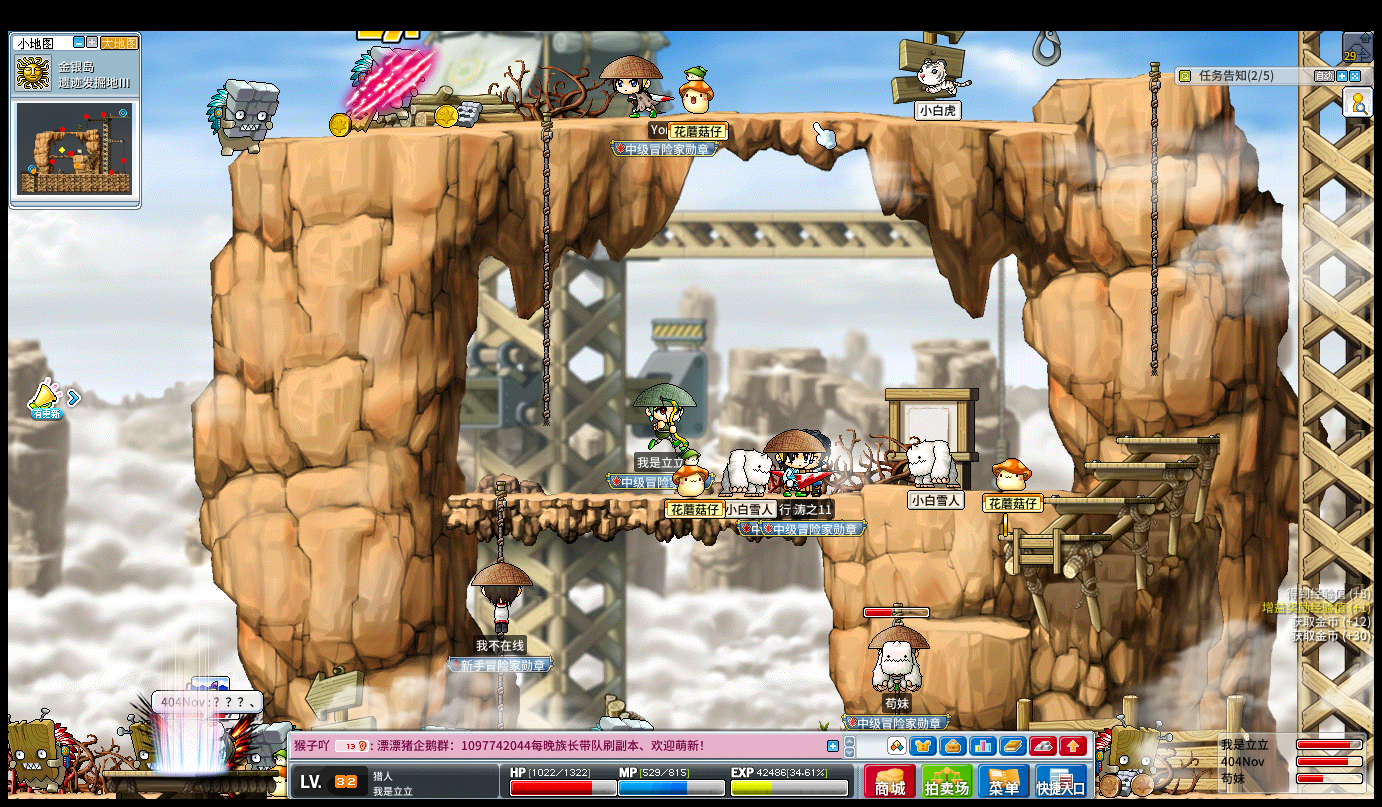floor: (225, 109, 1052, 143), (447, 491, 821, 502), (925, 617, 1030, 637), (1052, 71, 1168, 85), (1114, 434, 1221, 447), (1078, 460, 1196, 469), (996, 533, 1111, 542), (961, 486, 1076, 495), (1043, 495, 1154, 503)
monster: (2, 712, 77, 793), (207, 78, 281, 157), (1096, 718, 1172, 790), (347, 42, 411, 123), (245, 721, 288, 770)
rope: (1146, 58, 1162, 383), (539, 112, 551, 427), (492, 482, 505, 561)
